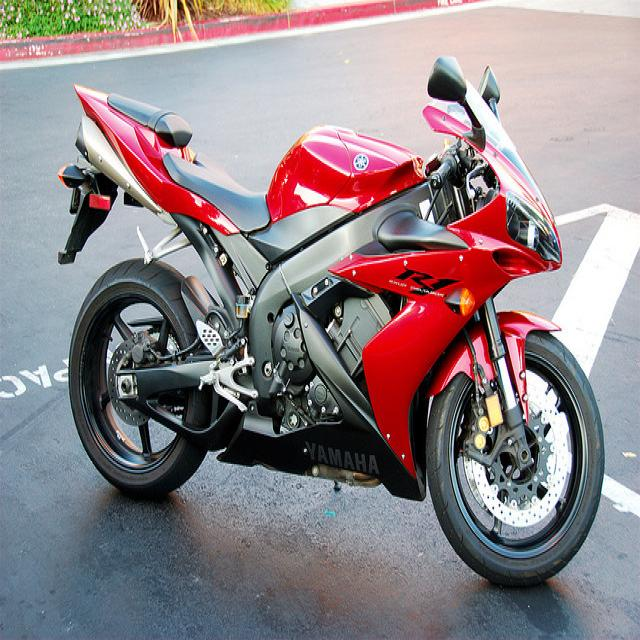motor: (61, 59, 613, 593)
